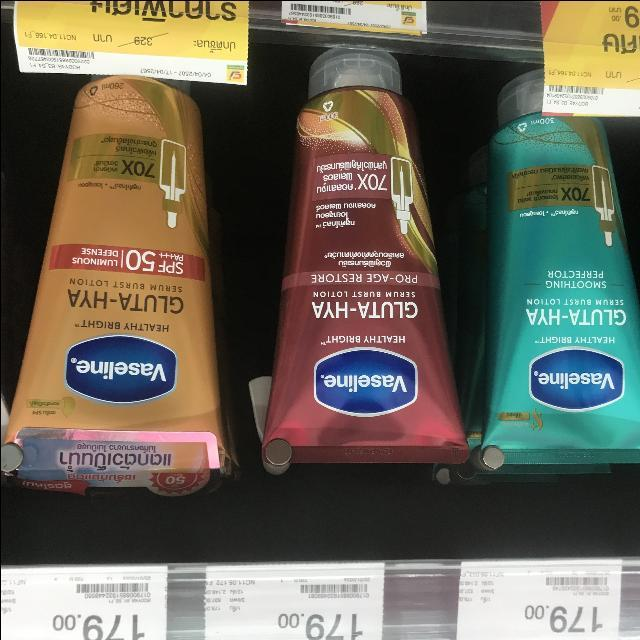Squeeze Tube: (0, 50, 238, 481), (257, 43, 484, 486), (452, 67, 640, 469)
